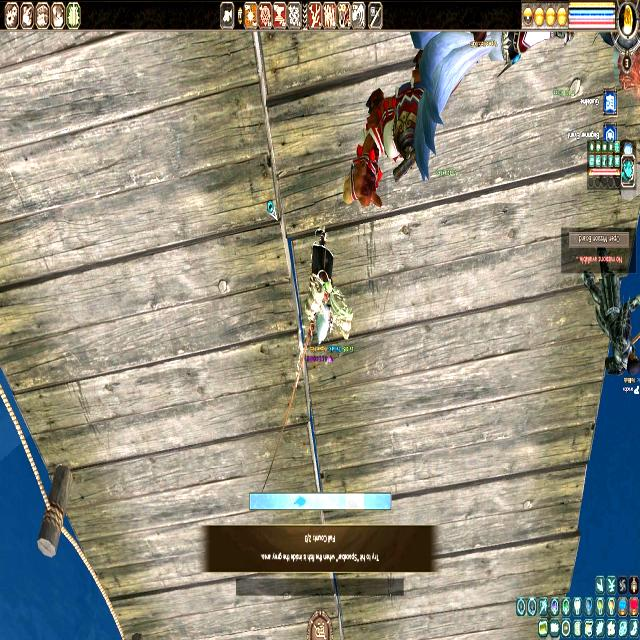fishes: (295, 495, 307, 509)
